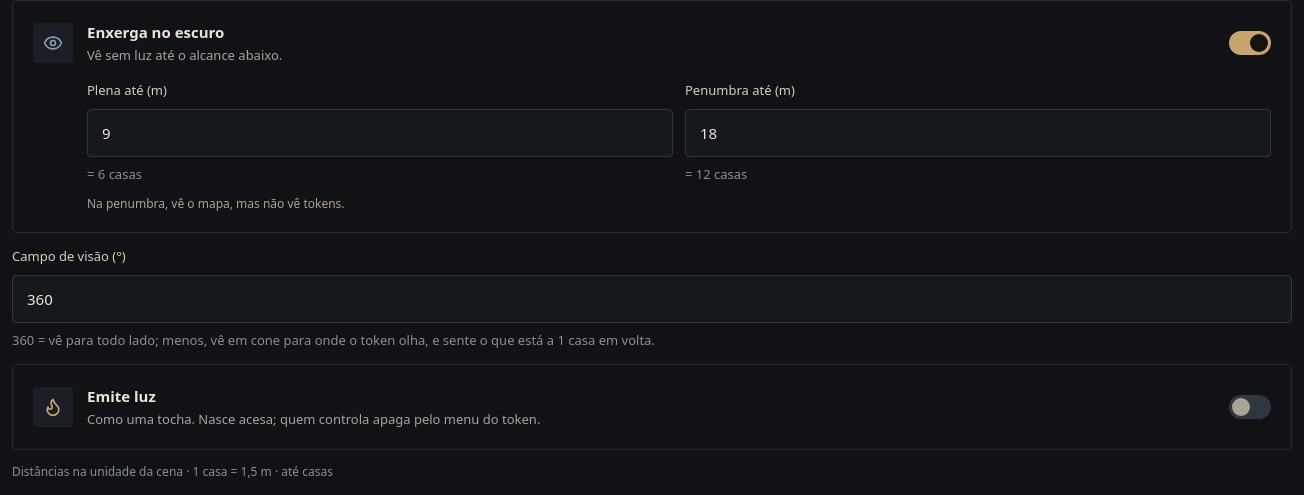
Test: VisionLightTab, "Enxerga no escuro" › switched off, the fields go and it says the token sees only where there is light
Step 1. Click the switch named "Enxerga no escuro" in the row of "Vê sem luz até o alcance abaixo." → (1250, 43), box [1229,31,1271,55]
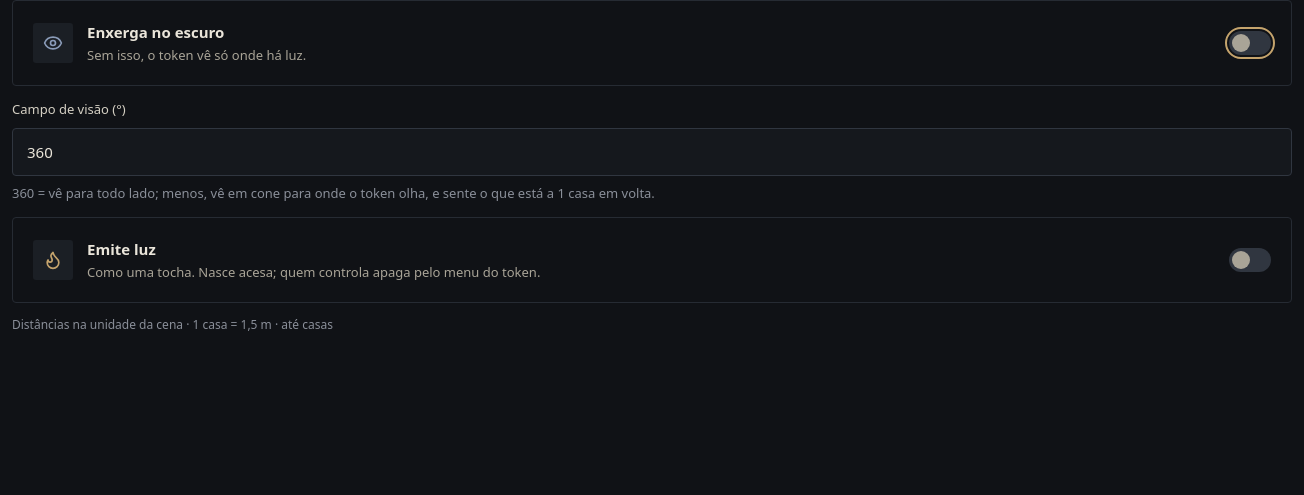
Expected: the label labelled "Plena até (m)" is gone
Expected: the text "Sem isso, o token vê só onde há luz." is shown, [87,46,306,64]
